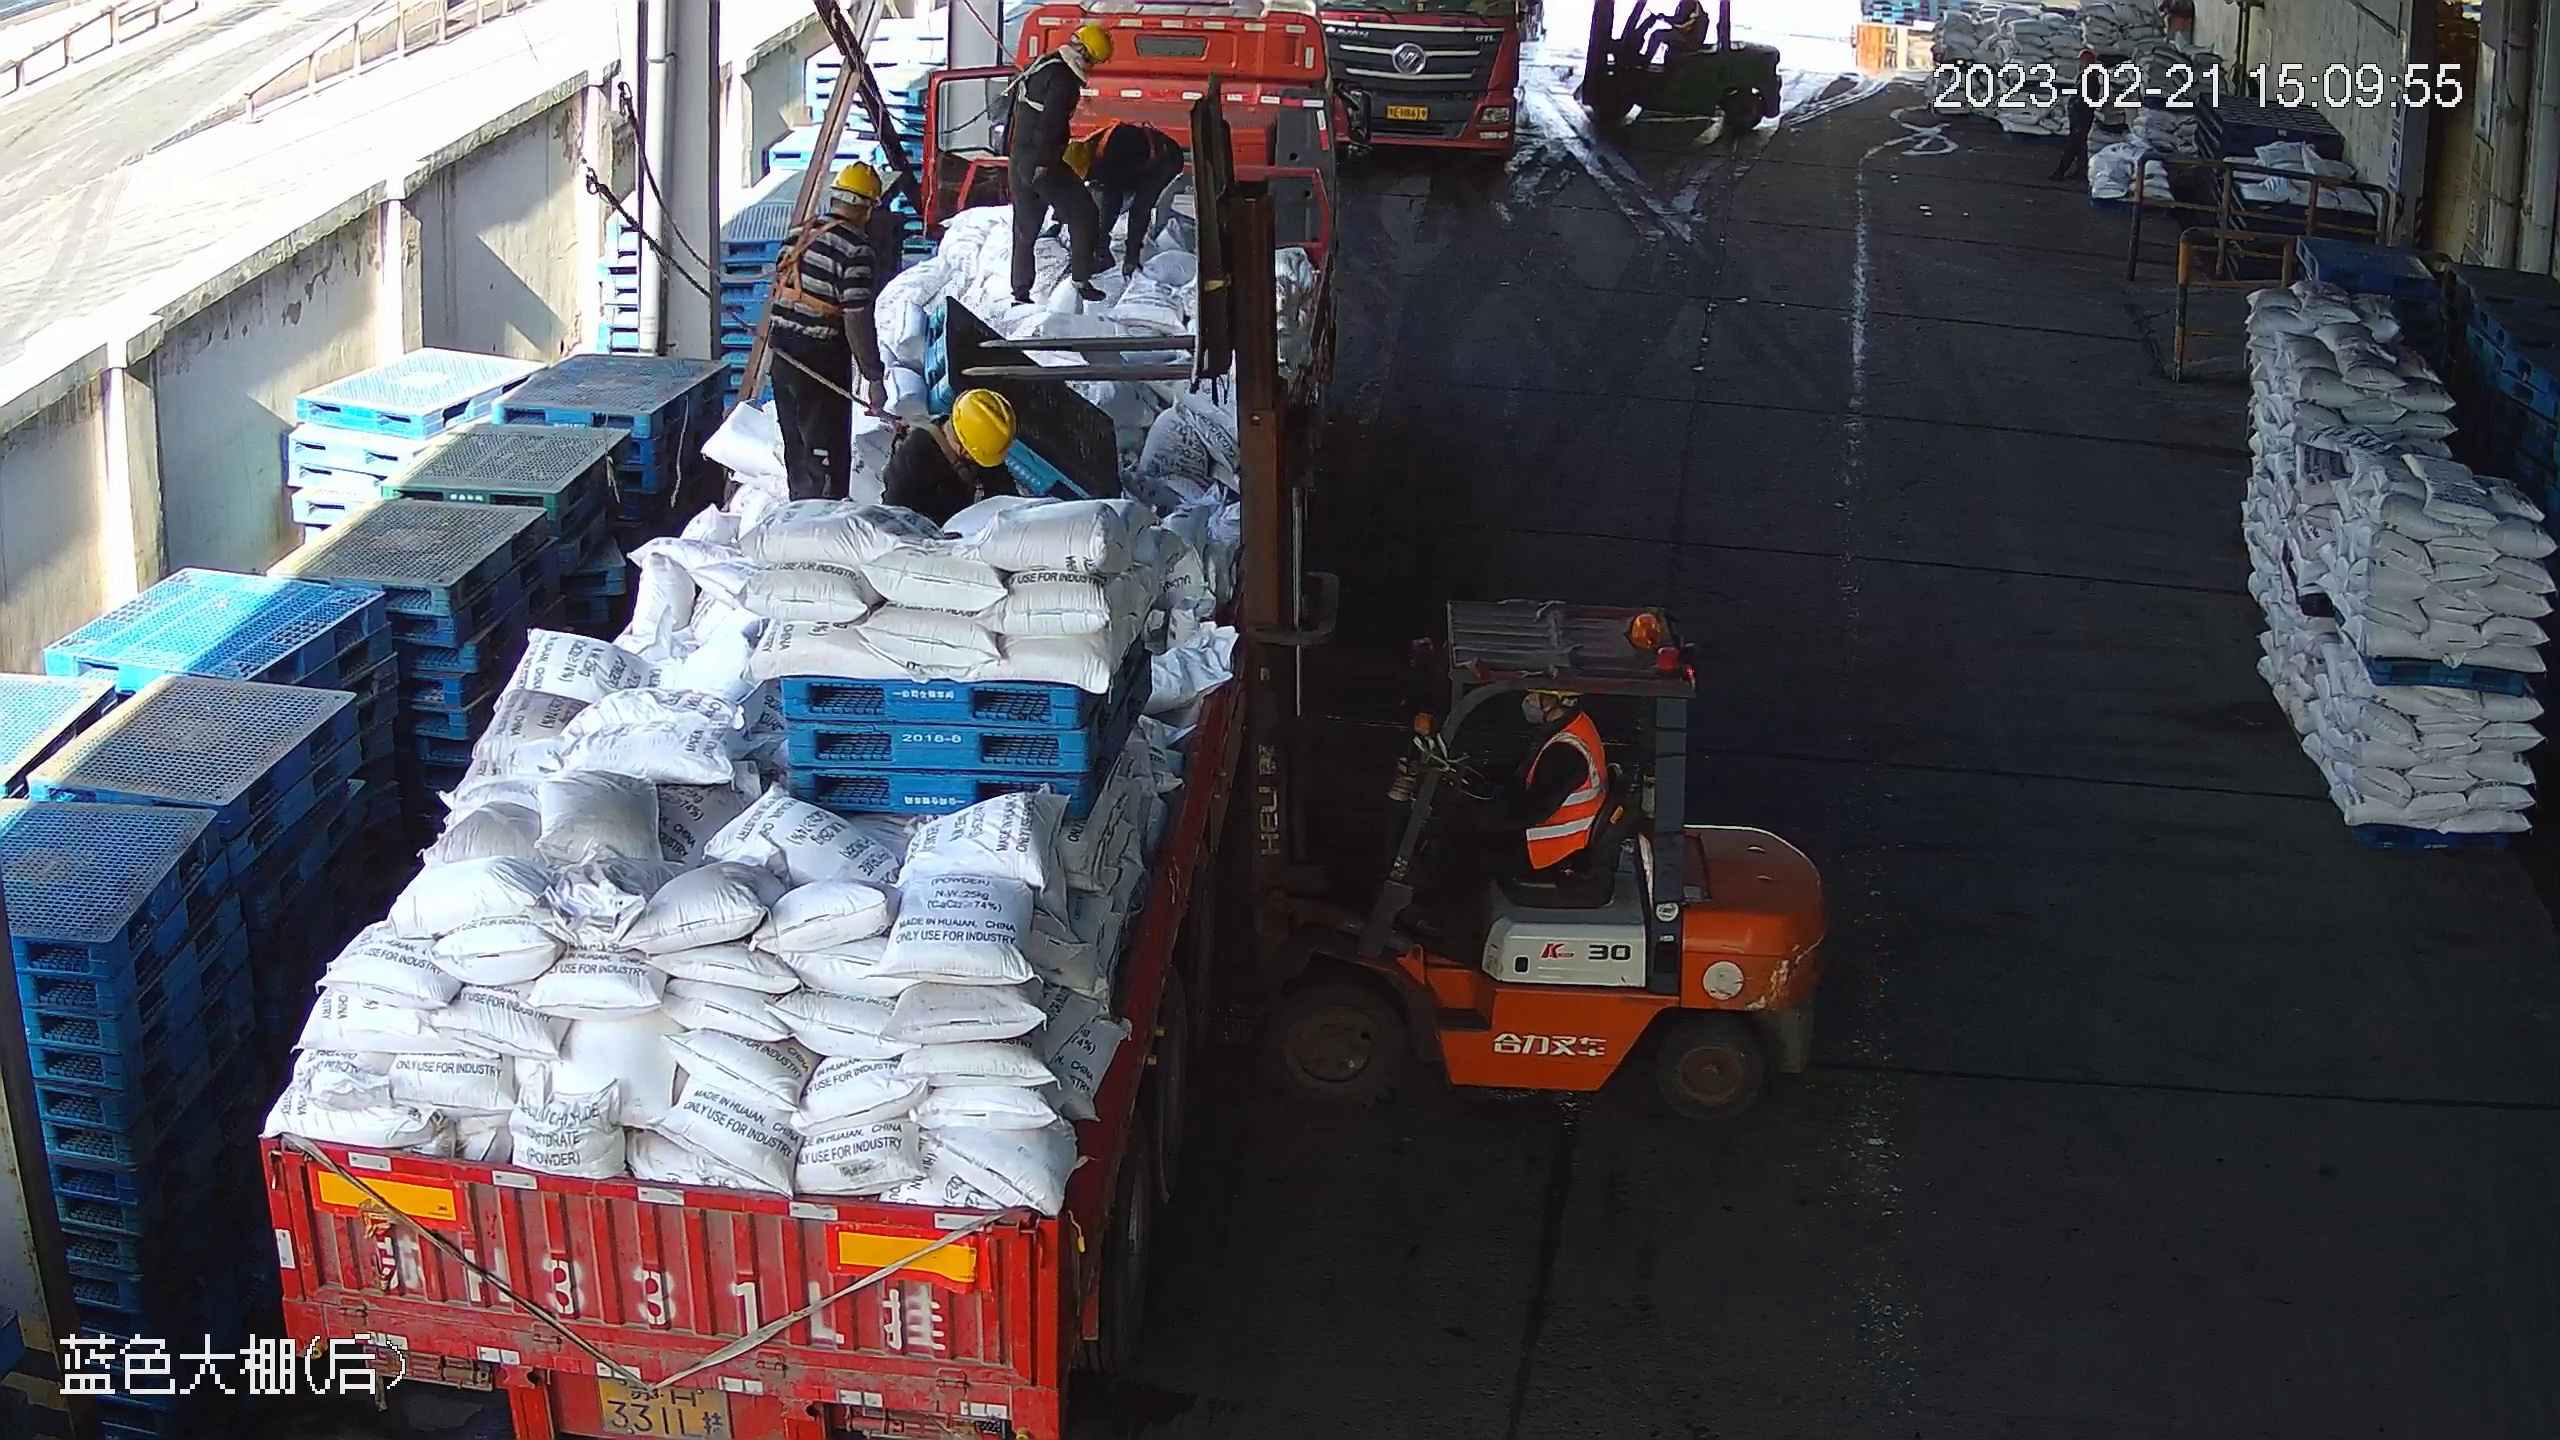head: (886, 385, 1030, 511), (787, 163, 889, 275), (1020, 27, 1111, 123), (1066, 127, 1134, 207)
helmet: (954, 389, 1013, 468), (830, 164, 880, 201), (1071, 23, 1106, 63), (1065, 140, 1087, 178), (2079, 51, 2096, 64)
people: (1403, 689, 1609, 923), (768, 164, 887, 499), (1004, 23, 1111, 313), (1066, 123, 1184, 275), (2052, 51, 2098, 184), (2051, 50, 2099, 103)
truck: (242, 1, 1370, 1440), (1321, 1, 1549, 177)
